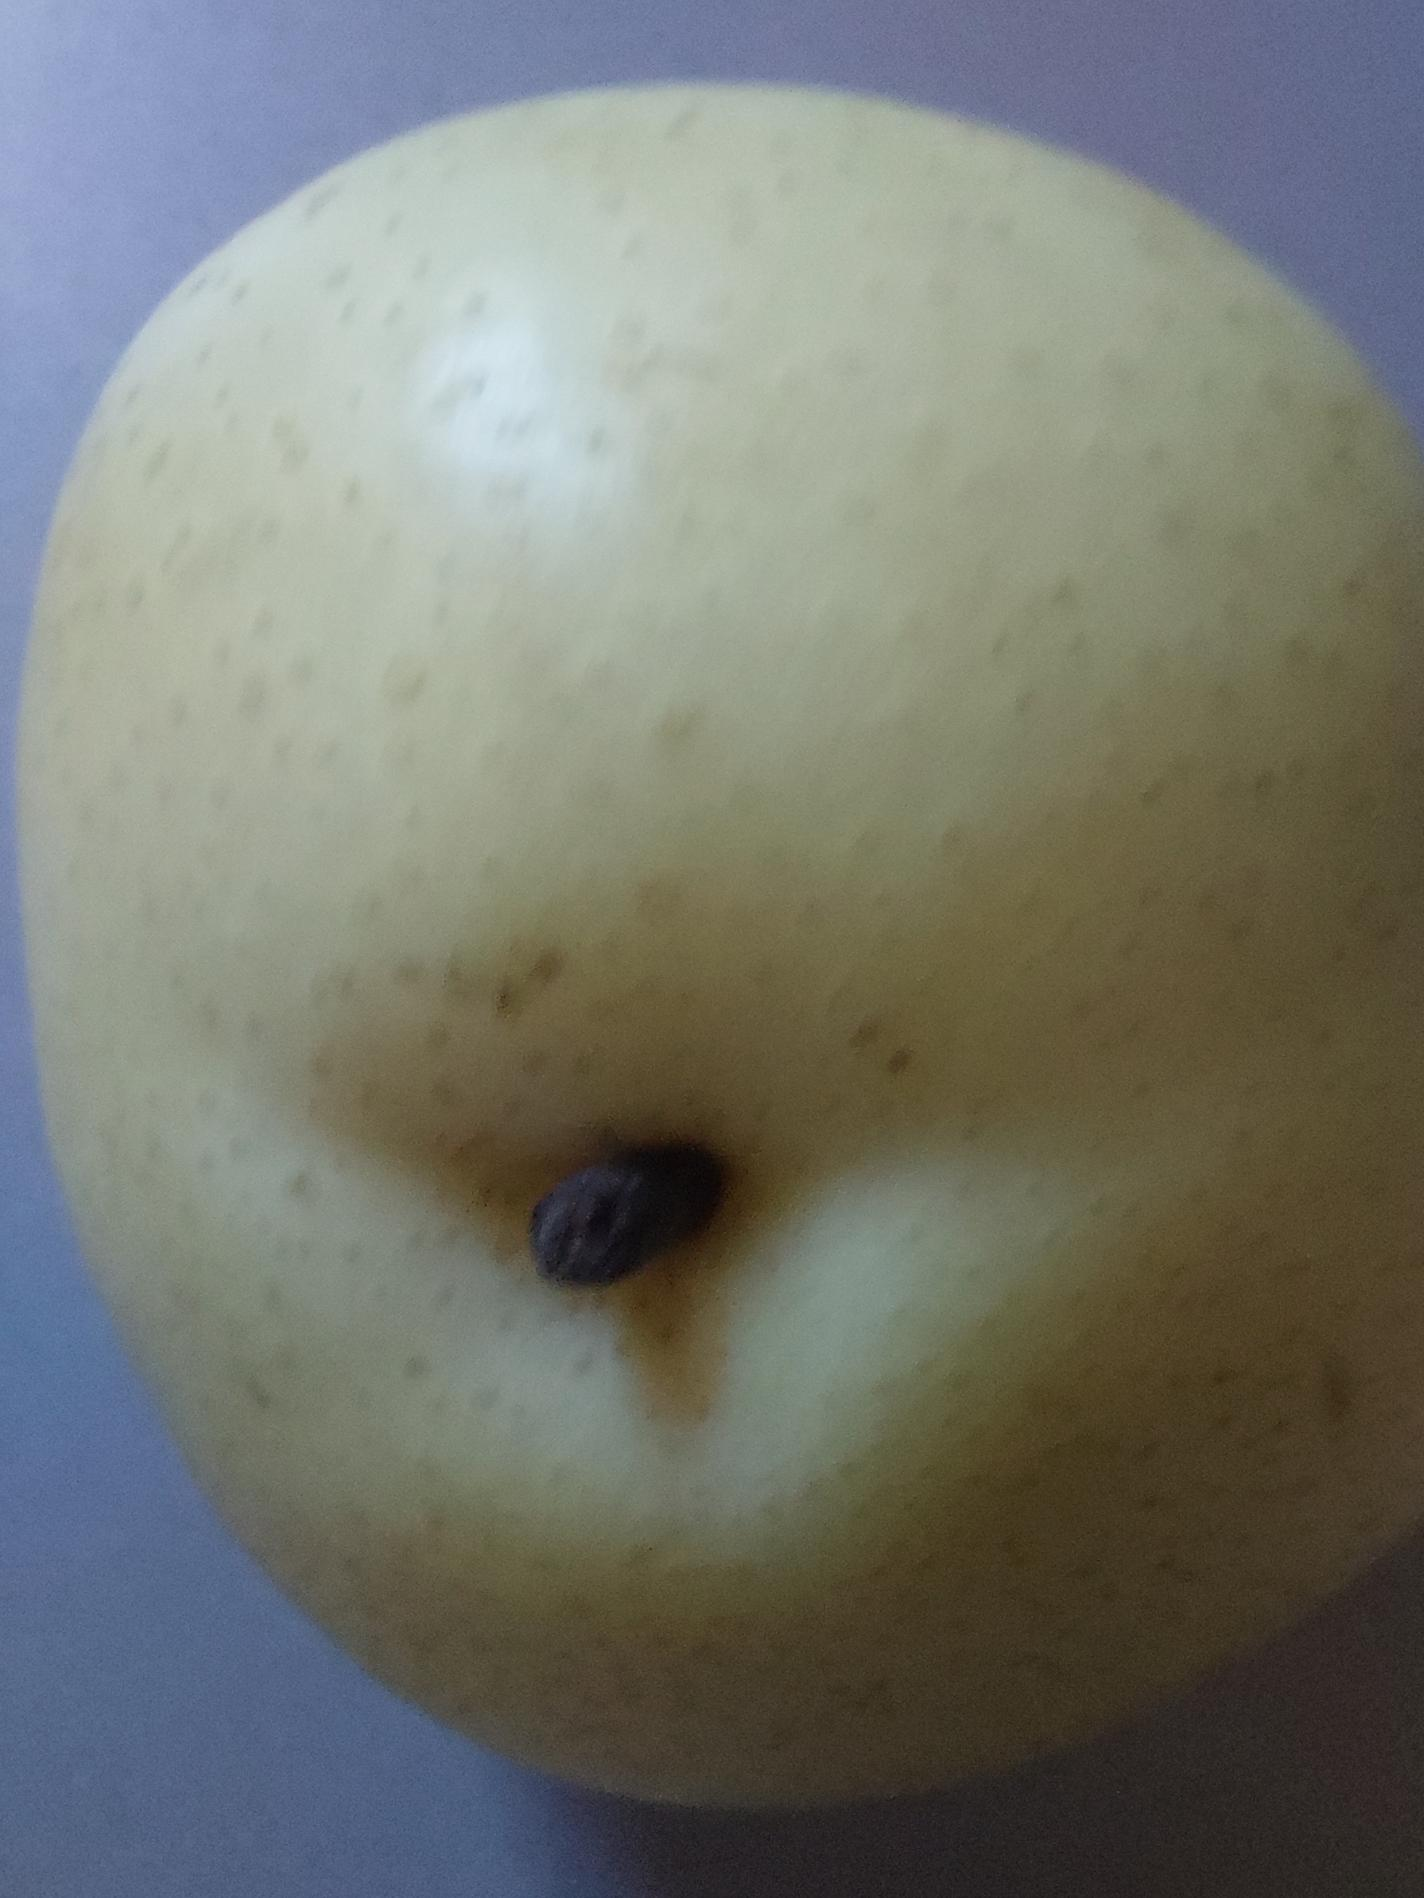Good Pear: (0, 36, 1424, 1882)
